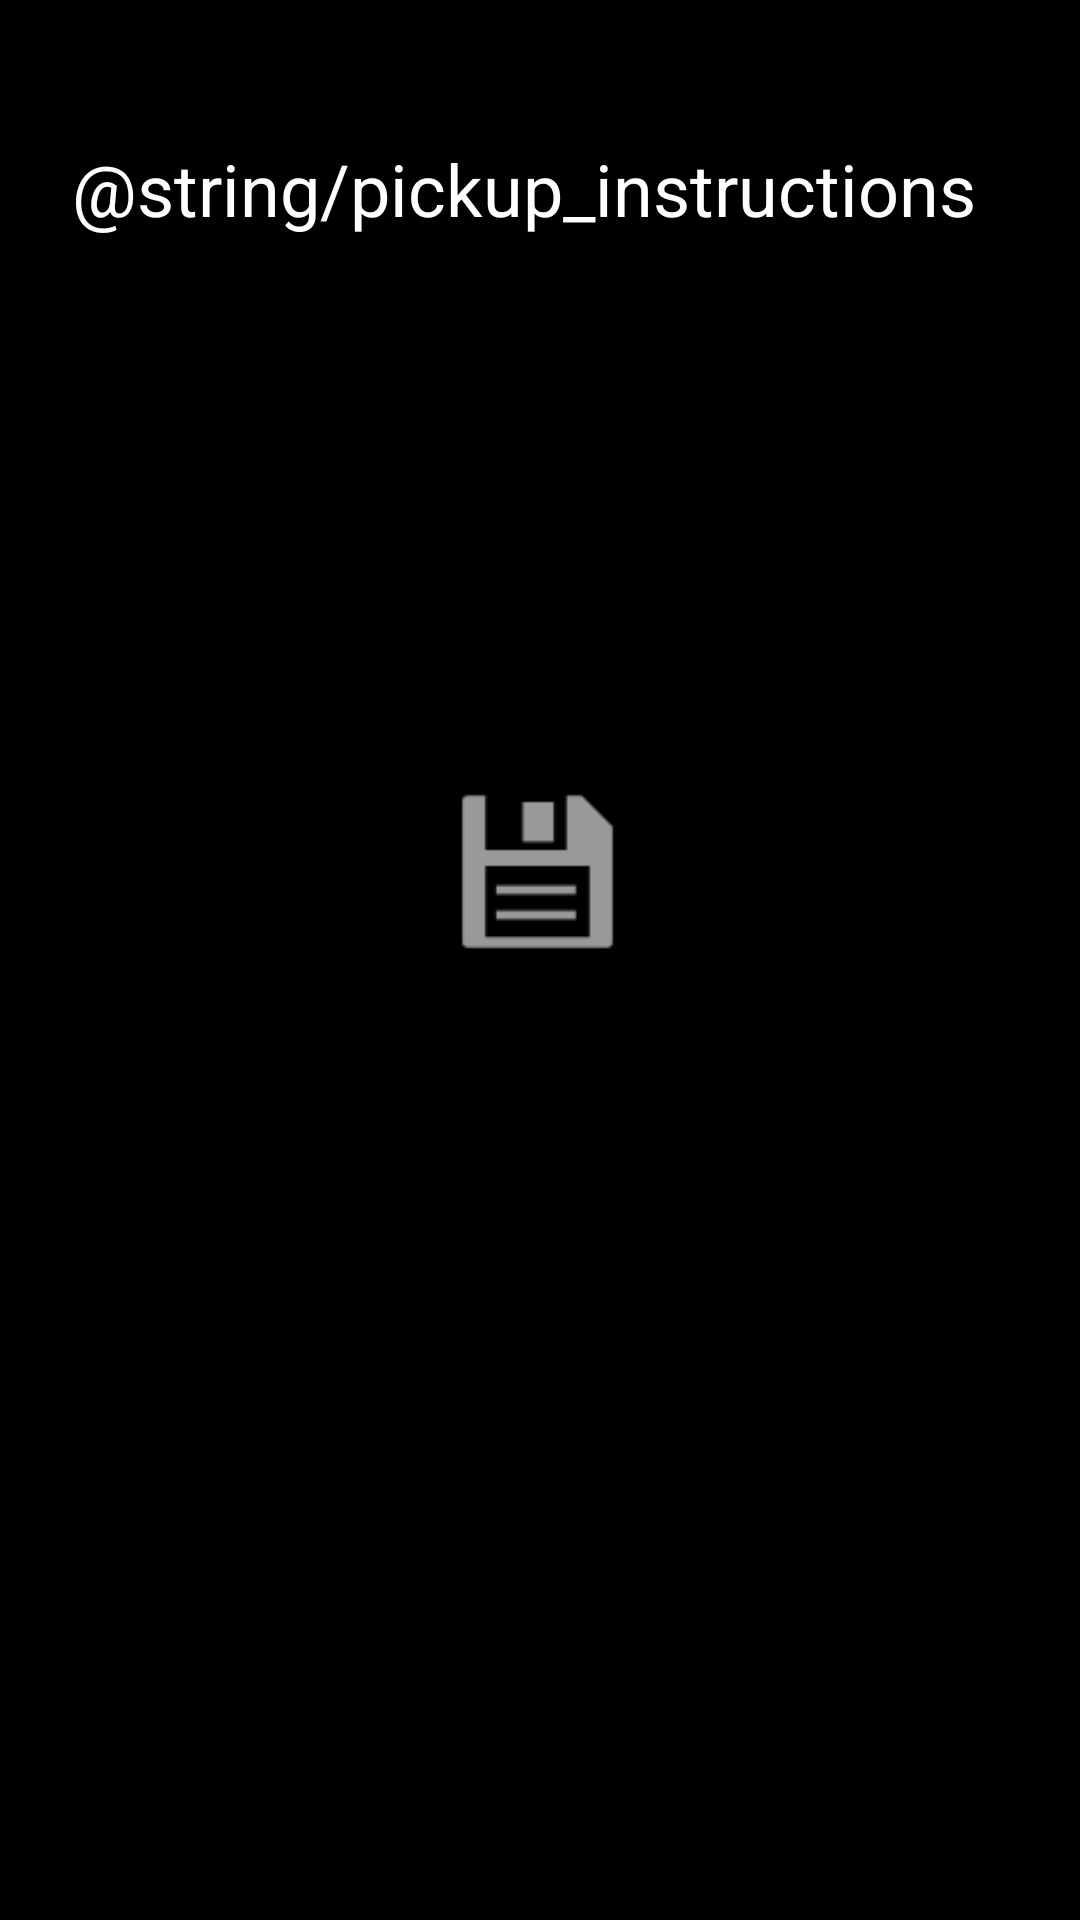

Icon click points for this 1080*1920 phone screenshot, format (x,y):
save: (537,872)
